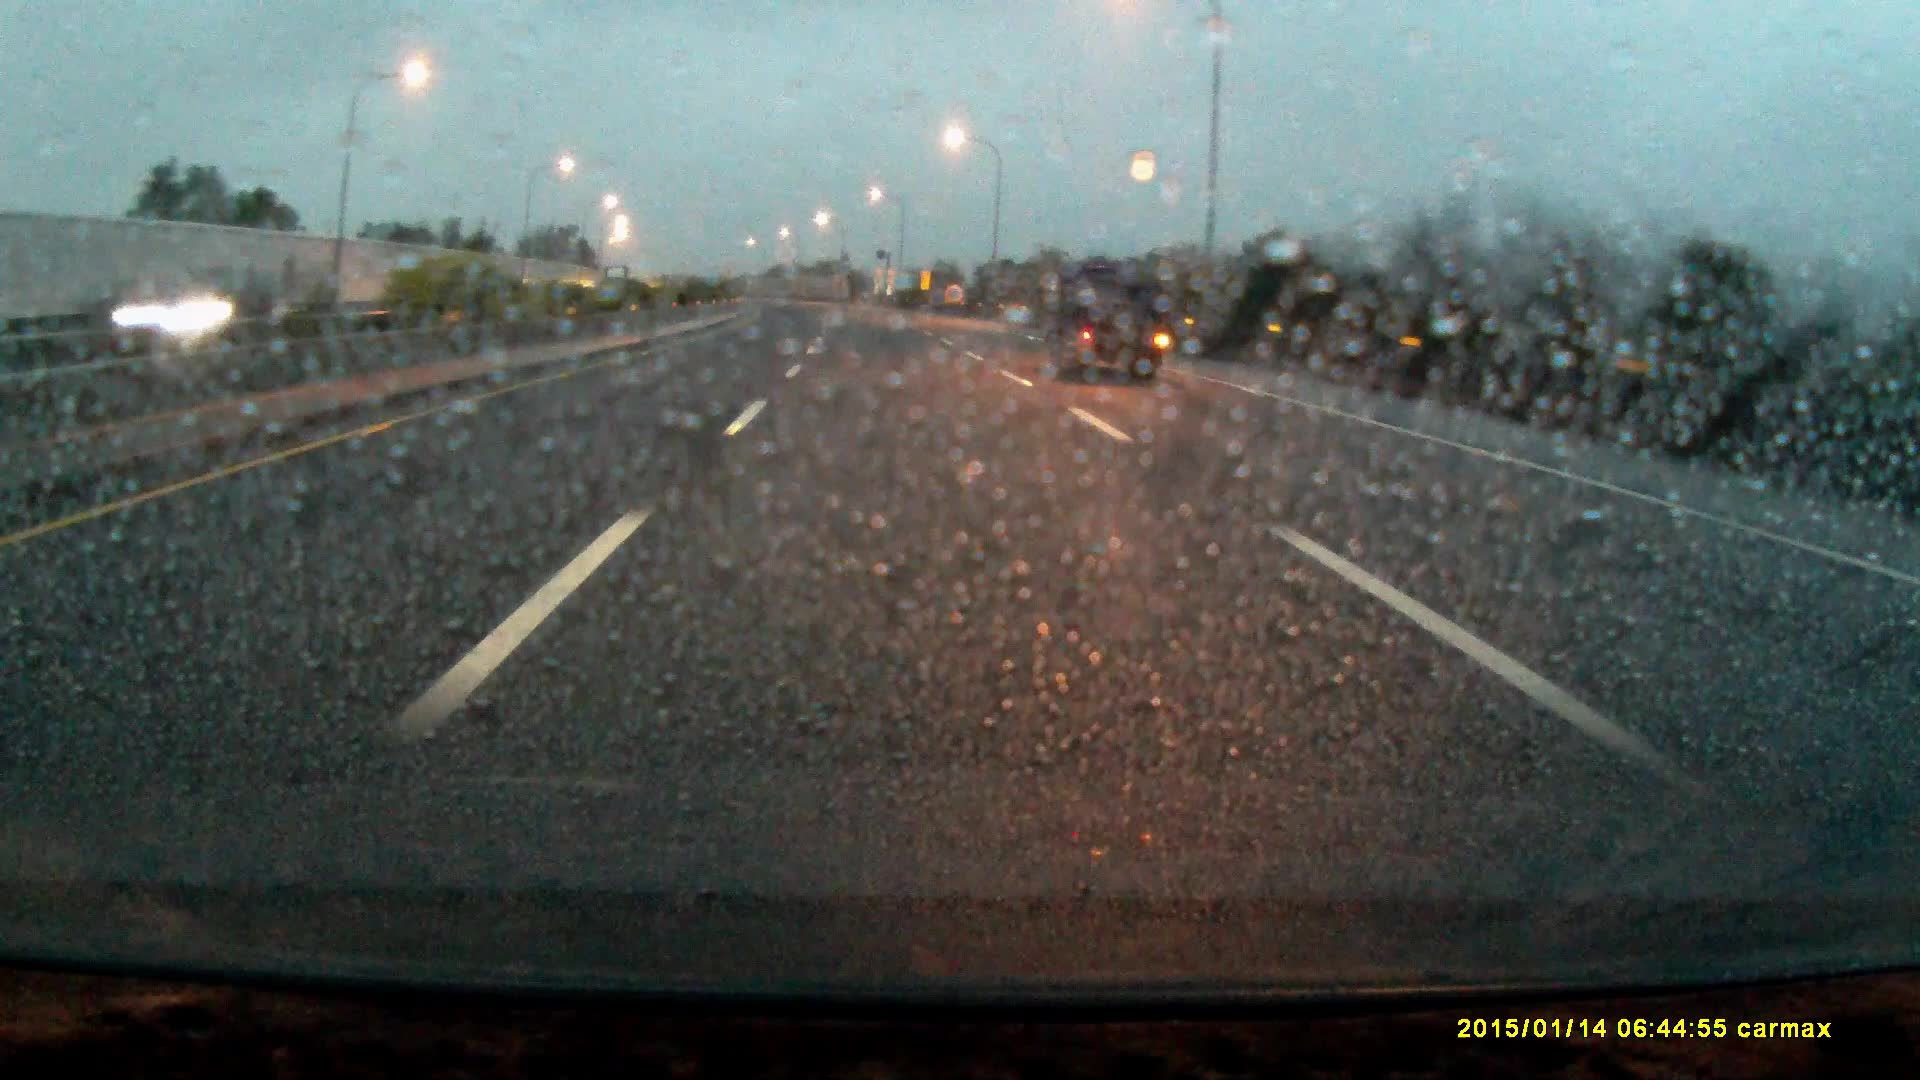vehicle: (1047, 264, 1168, 384), (117, 272, 290, 355), (605, 268, 630, 295)
